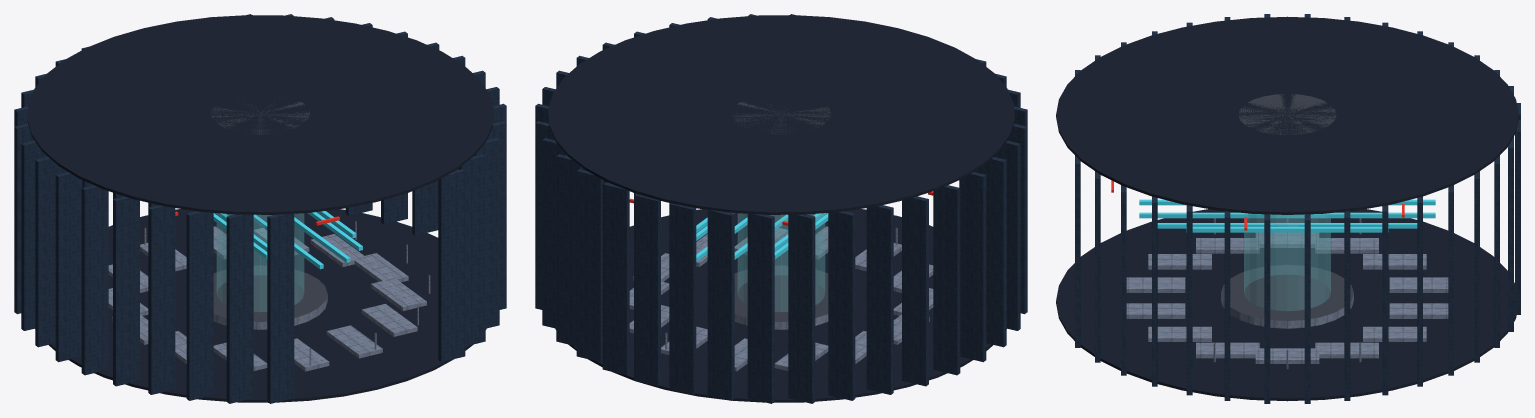
The model's file is chamber.glb.
3 renders of one model, left to right at view 1: azimuth 30°, elevation 25°; view 2: azimuth 150°, elevation 25°; view 3: azimuth 270°, elevation 25°, orthographic.
Parts seen in each view (by area): view 1: Chamber; view 2: Chamber; view 3: Chamber.
Boxes of the visible parts, x1,y1,x2,y2 form: Chamber: (14, 14, 506, 403); Chamber: (535, 14, 1027, 403); Chamber: (1056, 14, 1520, 403).
Size of the model in its own units: 33.78 by 14.4 by 32.14.
Materials: 6 (6 with a texture image).
